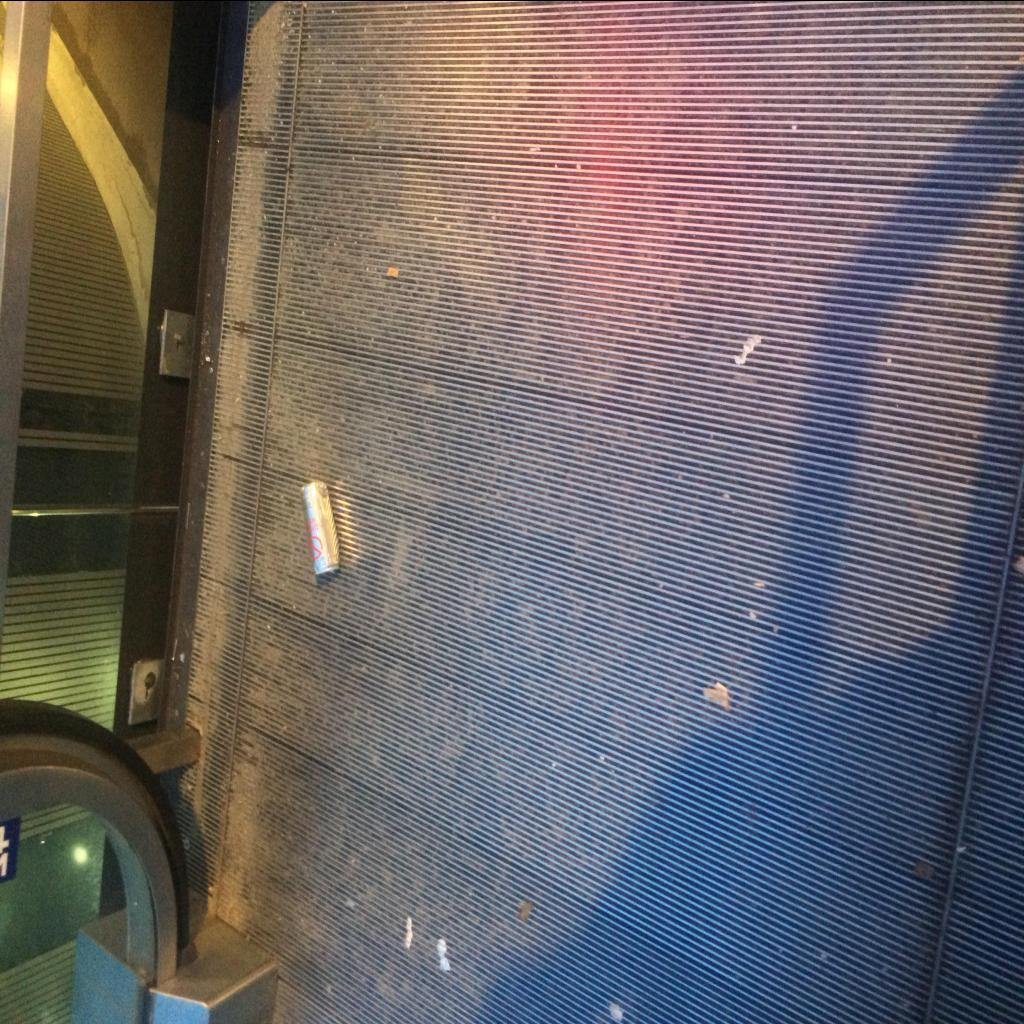Drink can: (300, 480, 341, 574)
